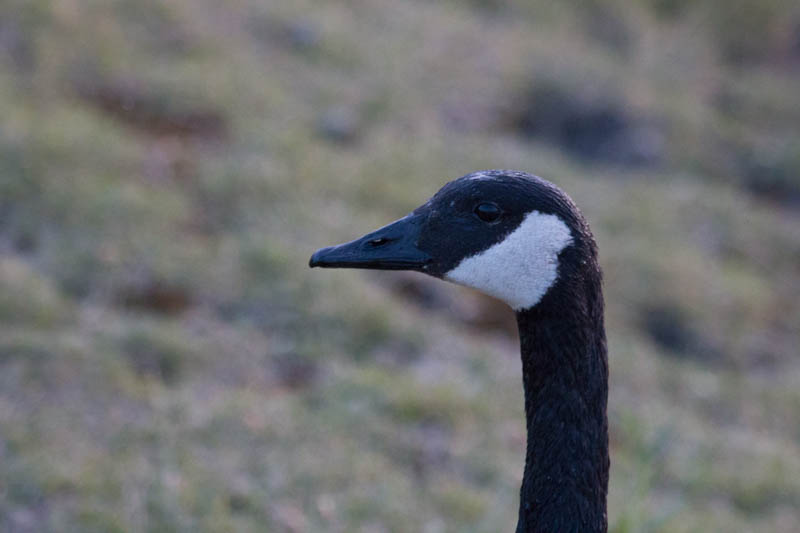goose-head: (308, 169, 604, 314)
